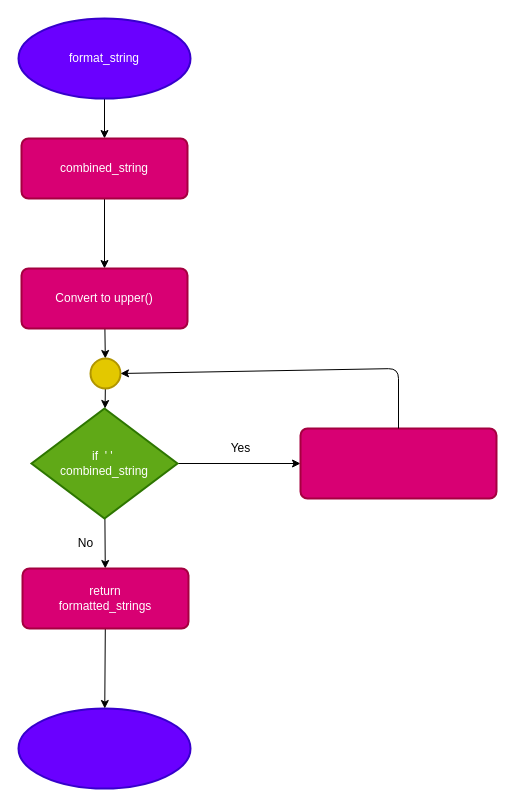
Image size: 514x806. Some labels were removed from this diagram. Here are the shapes that lost their labels. From the top down, the centre of each, then its label:
At (x=398, y=463): "formatted_strings = formatted_strings.replace(' ',' - ')".
At (x=104, y=748): "End".
